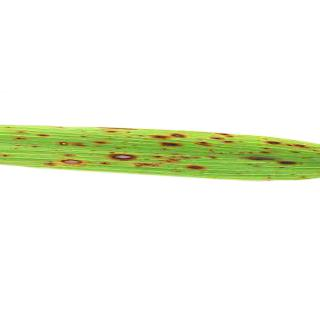bercak-Cokelat: (236, 153, 302, 169), (261, 134, 317, 151), (145, 127, 186, 149), (193, 131, 239, 149), (92, 125, 142, 137), (17, 126, 51, 142), (109, 151, 143, 165), (55, 155, 89, 168), (58, 137, 90, 149), (187, 161, 208, 175)
